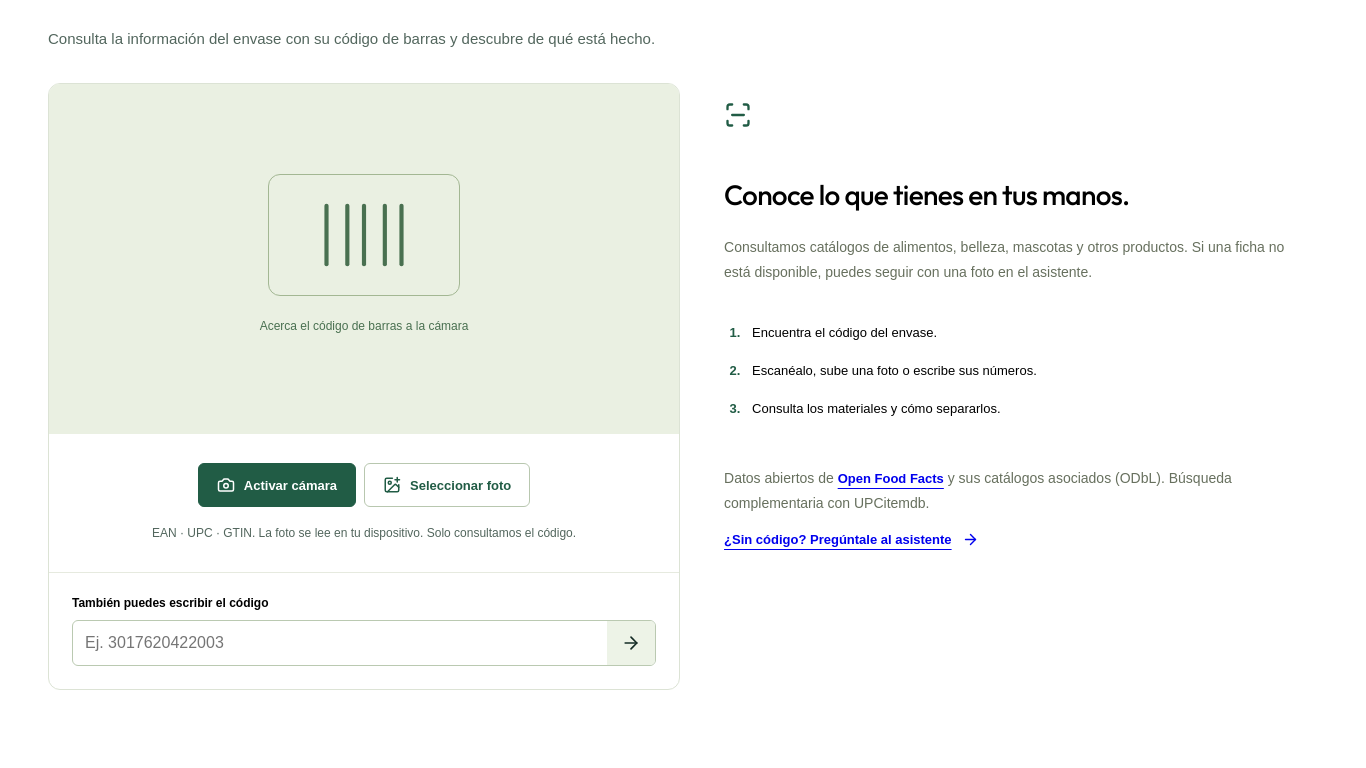
Scenario: does not query the catalog for an invalid code
The image size is (1366, 768).
(page scrolled)
Type "3017620422004" into the field labelled "También puedes escribir el código".
click(340, 643); type("3017620422004")  # box [73, 621, 607, 665]
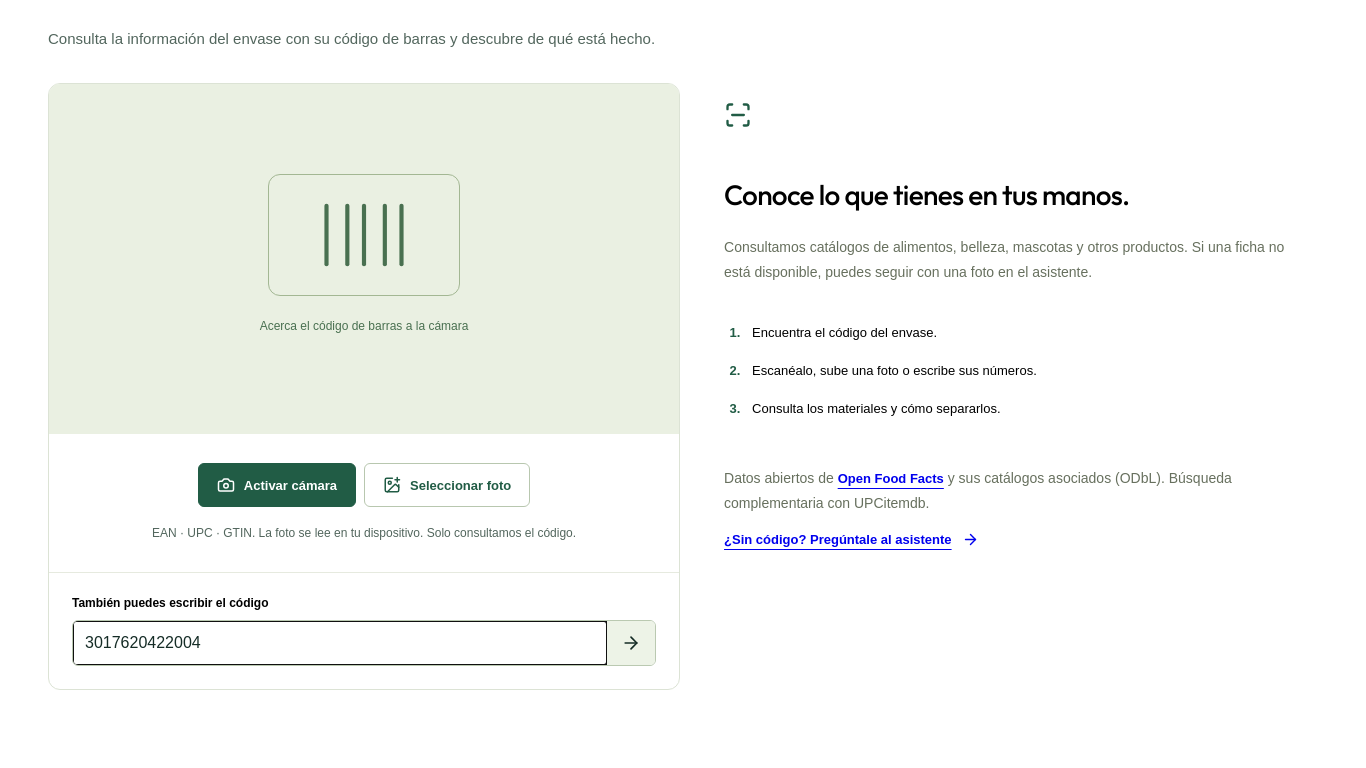
Click the button named "Consultar código".
click(631, 643)  # box [607, 621, 655, 665]
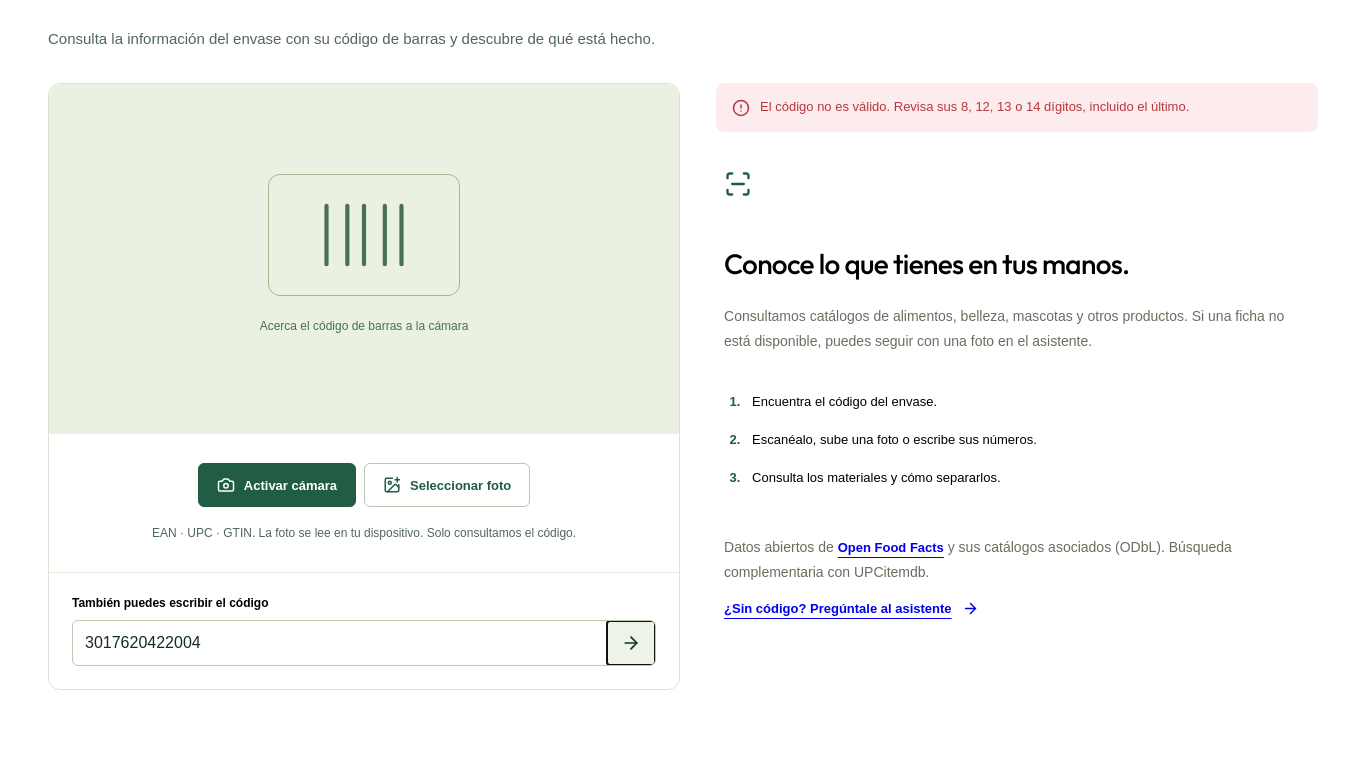
Expected: the message shows "no es válido", [760, 99, 1189, 114]
